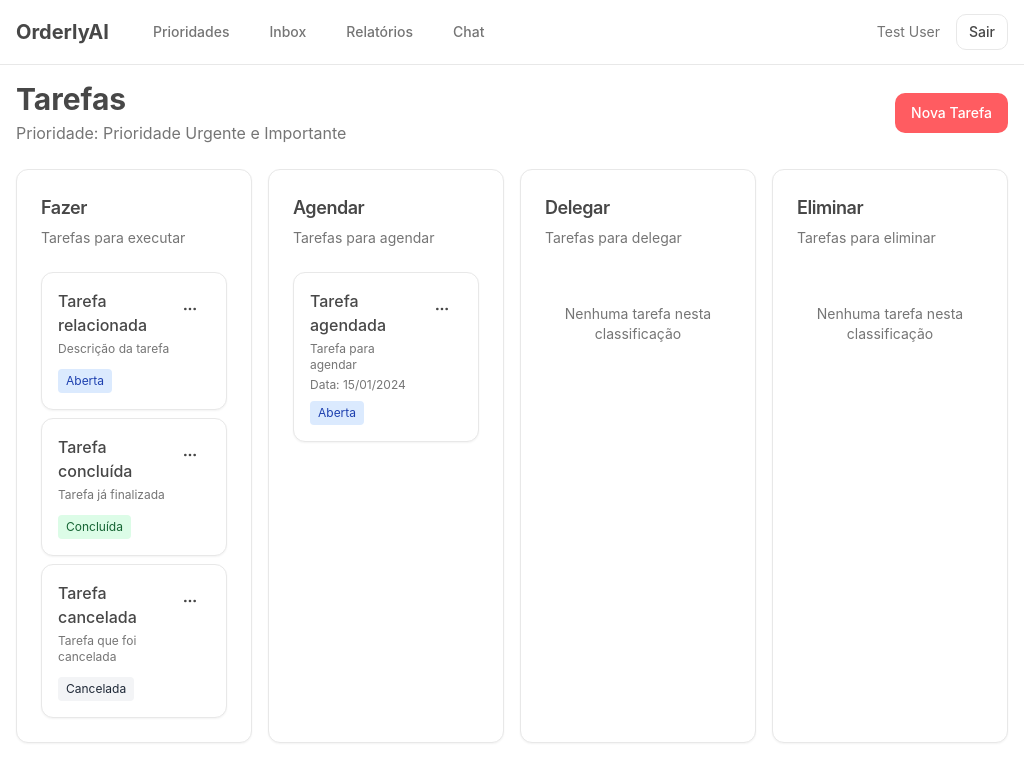
it: TasksPage › Criação de Tarefa › deve abrir dialog ao clicar em "Nova Tarefa"
Expected: the heading "Tarefas" is shown, left=16, top=81, right=126, bottom=117
Click the button "Nova Tarefa": point(952, 113) left=895, top=93, right=1008, bottom=133
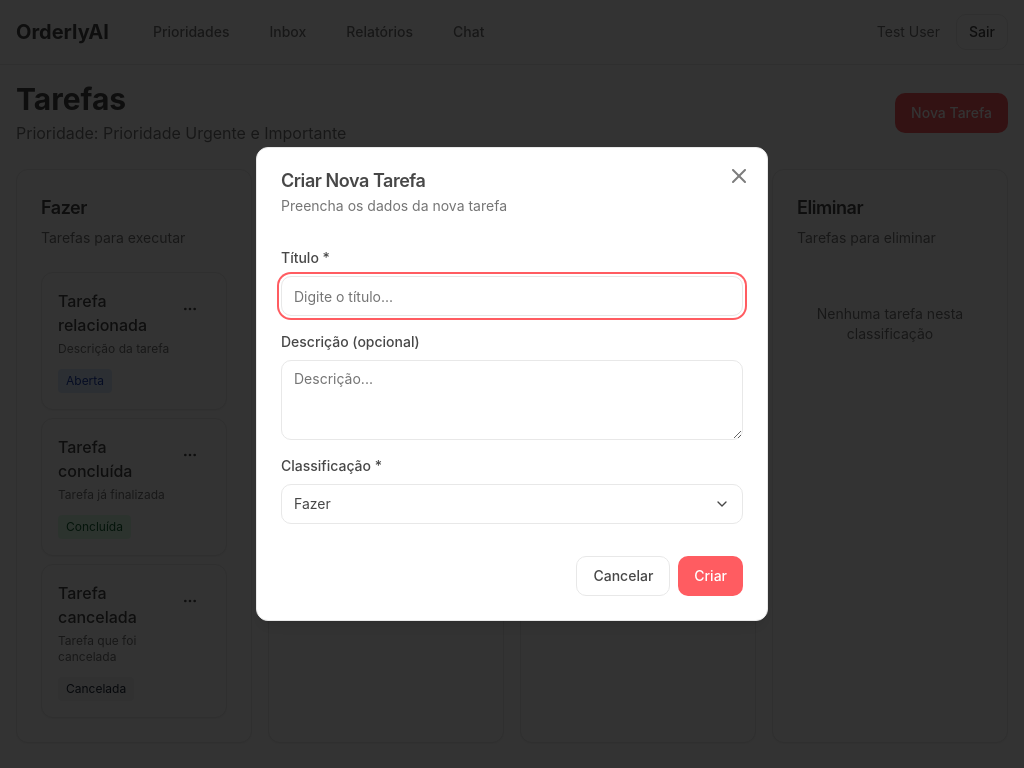
Expected: the dialog "Criar Nova Tarefa" is shown, left=256, top=147, right=768, bottom=621
